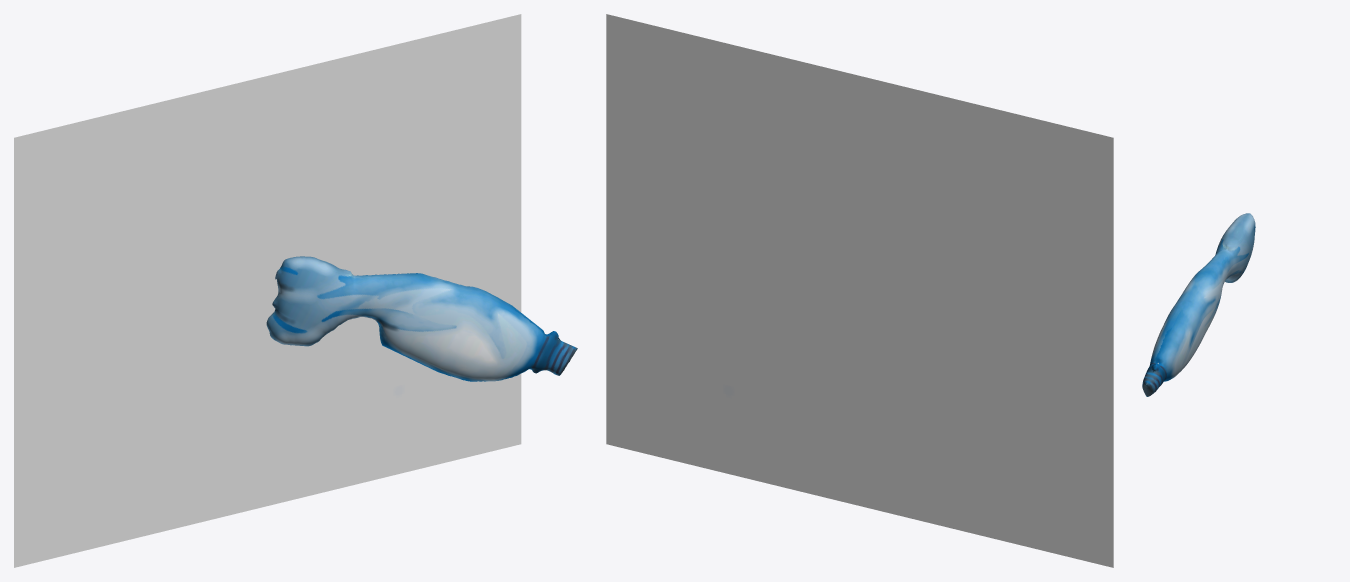
File: plasticbottle.fbx
3 renders of one model, left to right at view 1: azimuth 30°, elevation 25°; view 2: azimuth 150°, elevation 25°; view 3: azimuth 270°, elevation 25°, orthographic. The views are drawn at different scales.
Visible parts, largest first — view 1: root (×2); view 2: root; view 3: root.
Boxes of the visible parts, x1=… form: root (×2): x1=14, y1=14, x2=577, y2=567; root: x1=606, y1=14, x2=1113, y2=567; root: x1=1142, y1=213, x2=1255, y2=396.
Size of the model in its own units: 0.696 by 0.564 by 0.2809.
Materials: 2 (2 with a texture image).
